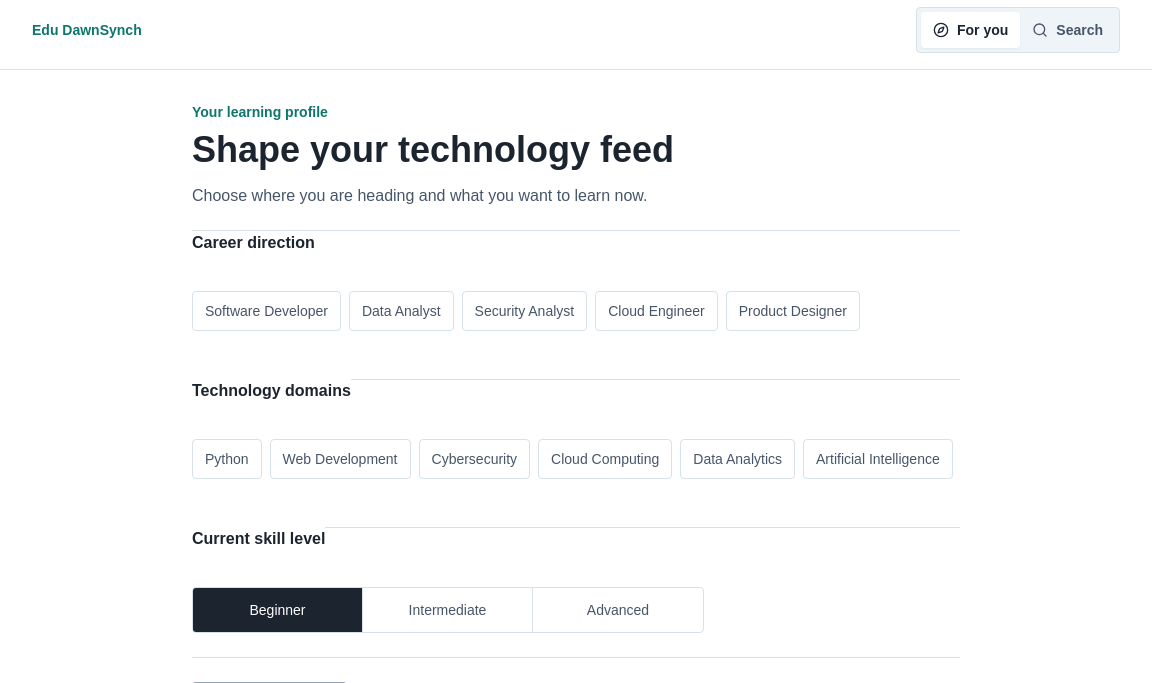
Scenario: LearnerExperience › creates a profile and supports bookmark and dismissal controls
The width and height of the screenshot is (1152, 683).
Expected: the heading "Shape your technology feed" is shown, [192,129,674,170]
Click the checkbox labelled "Software Developer". click: (266, 311)
box: [192,291,341,331]
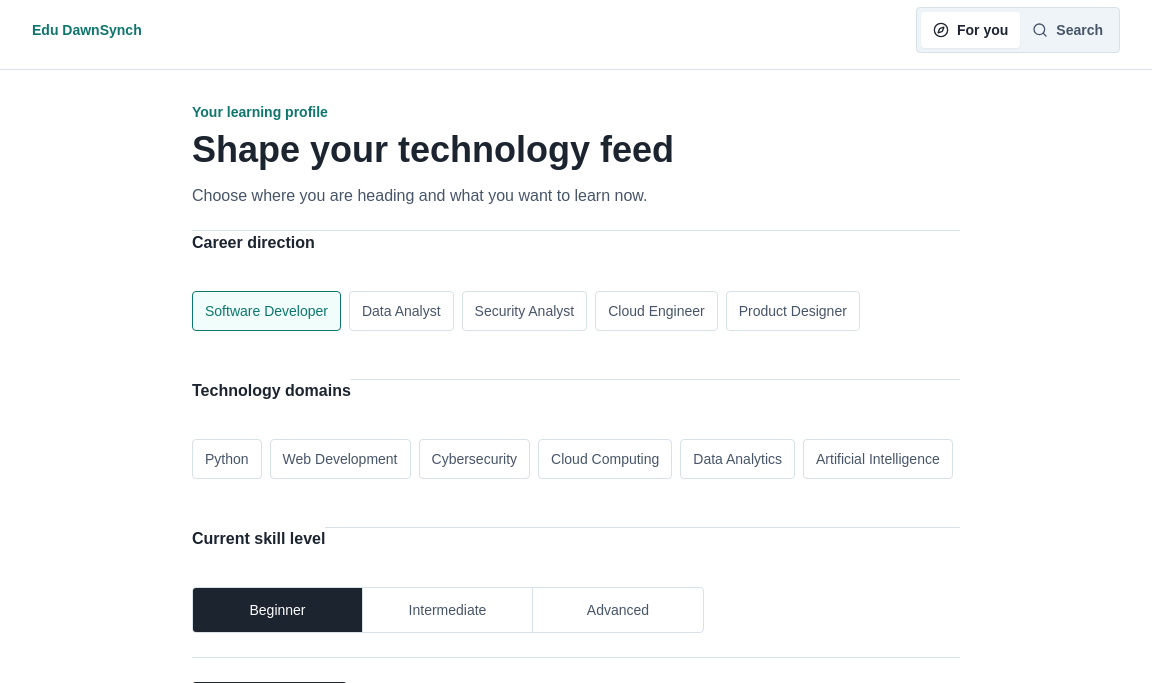
Click the checkbox labelled "Python". click: (227, 459)
box: [192,439,262,479]
(page scrolled)
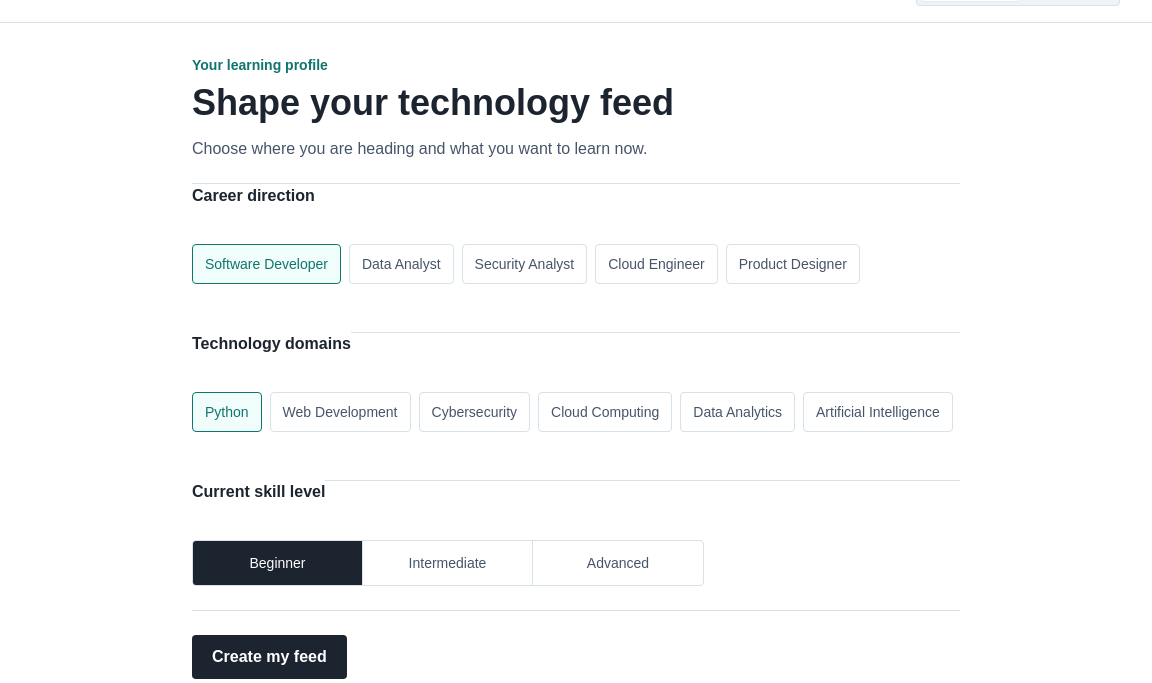
Click the button "Create my feed". click: (269, 657)
box: [192,635,347,679]
(page scrolled)
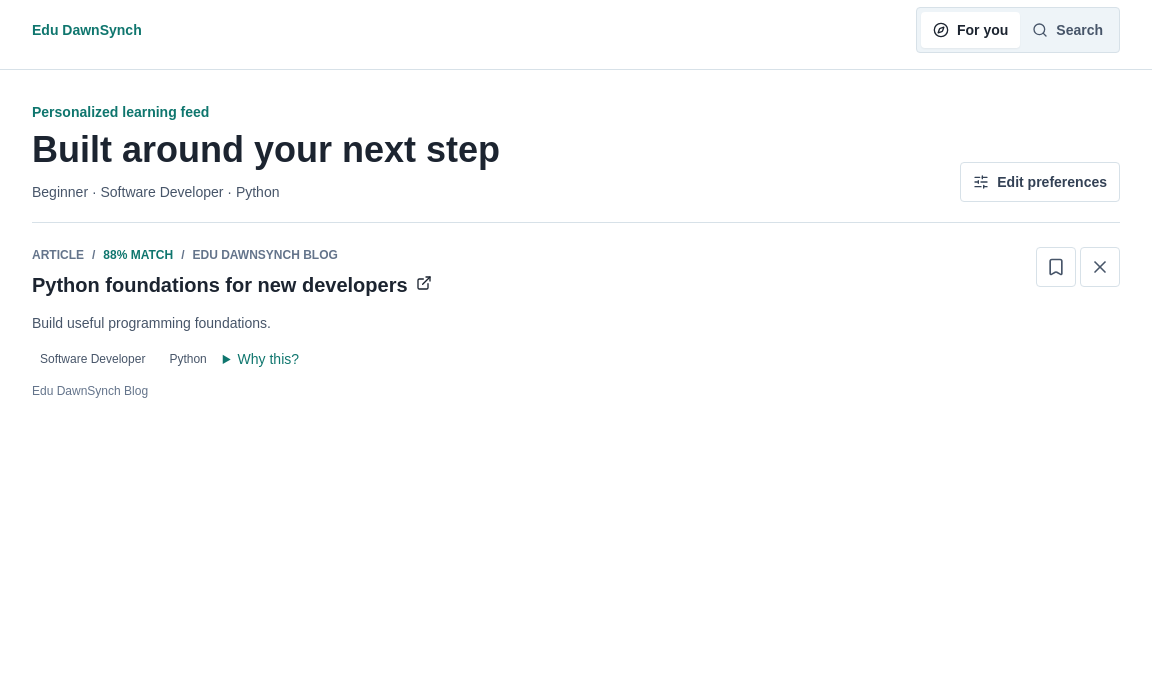
Expected: the text "Python foundations for new developers" is shown, [32,271,408,299]
Click the button named "Bookmark lesson". click: (1056, 267)
box: [1036,247,1076,287]
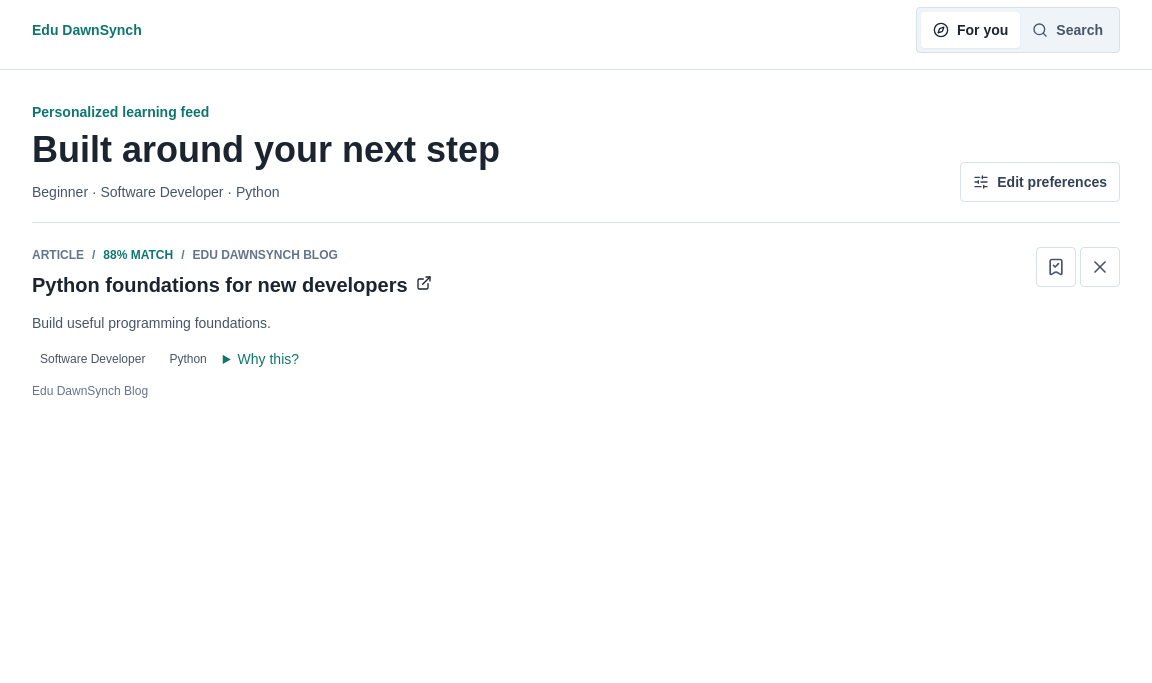
Expected: the button named "Remove bookmark" is shown, [1036,247,1076,287]
Click the button named "Dismiss lesson". click: (1100, 267)
box: [1080,247,1120,287]
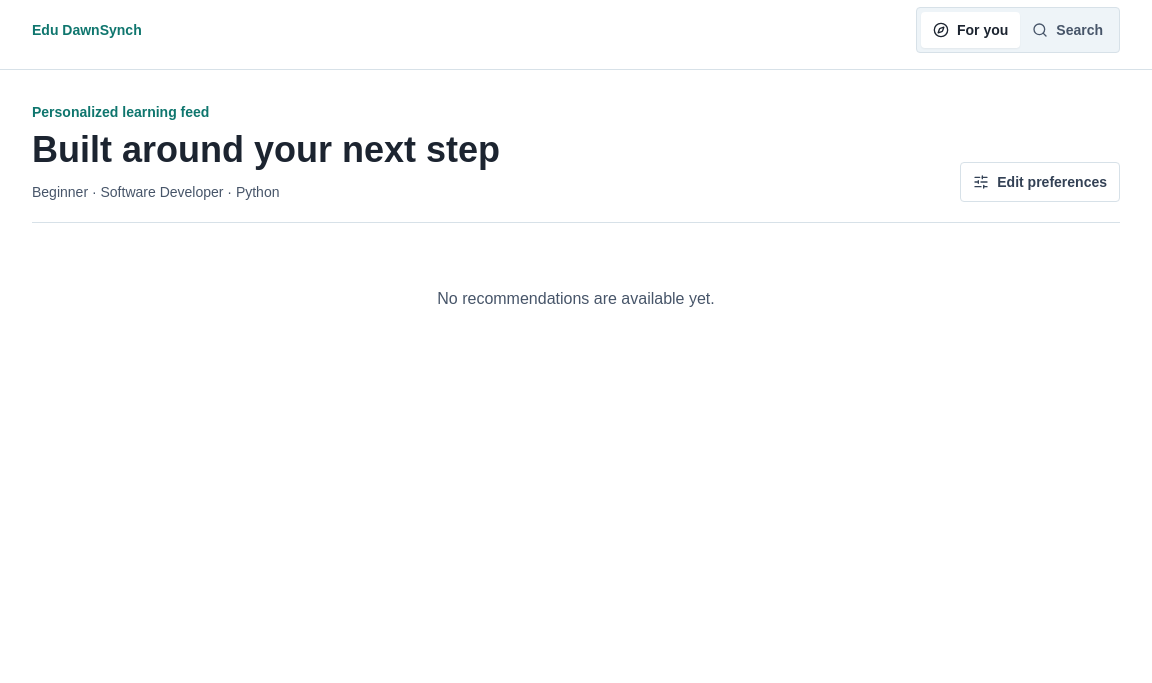
Expected: the link "Python foundations for new developers" is gone
